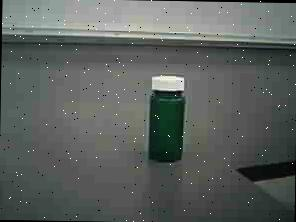Bottle C: (141, 70, 193, 164)
